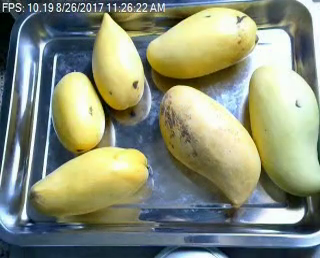Mango: (159, 86, 260, 205), (249, 64, 320, 195), (29, 145, 149, 215), (145, 7, 258, 78), (91, 12, 144, 110), (51, 71, 105, 150)
